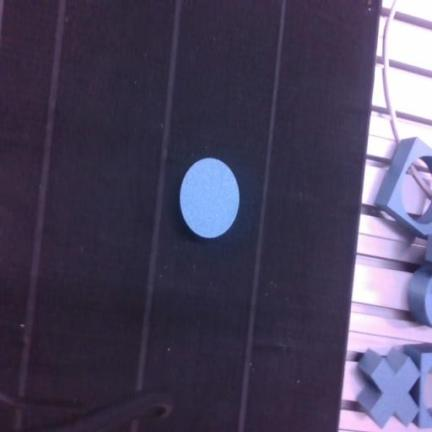cylinder: (180, 158, 239, 238)
